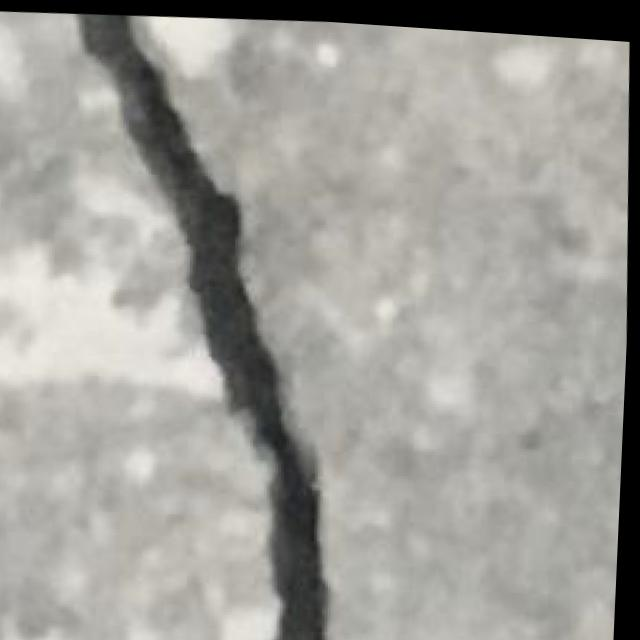Crack: (57, 5, 375, 640)
